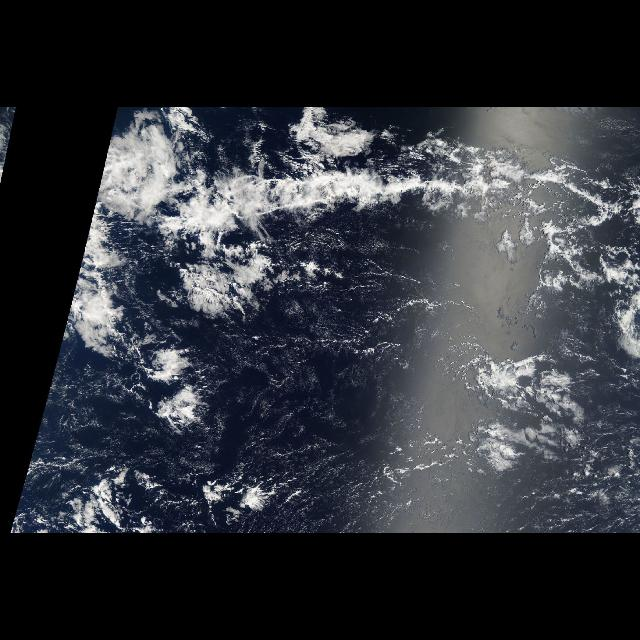Fish: (76, 110, 624, 346)
